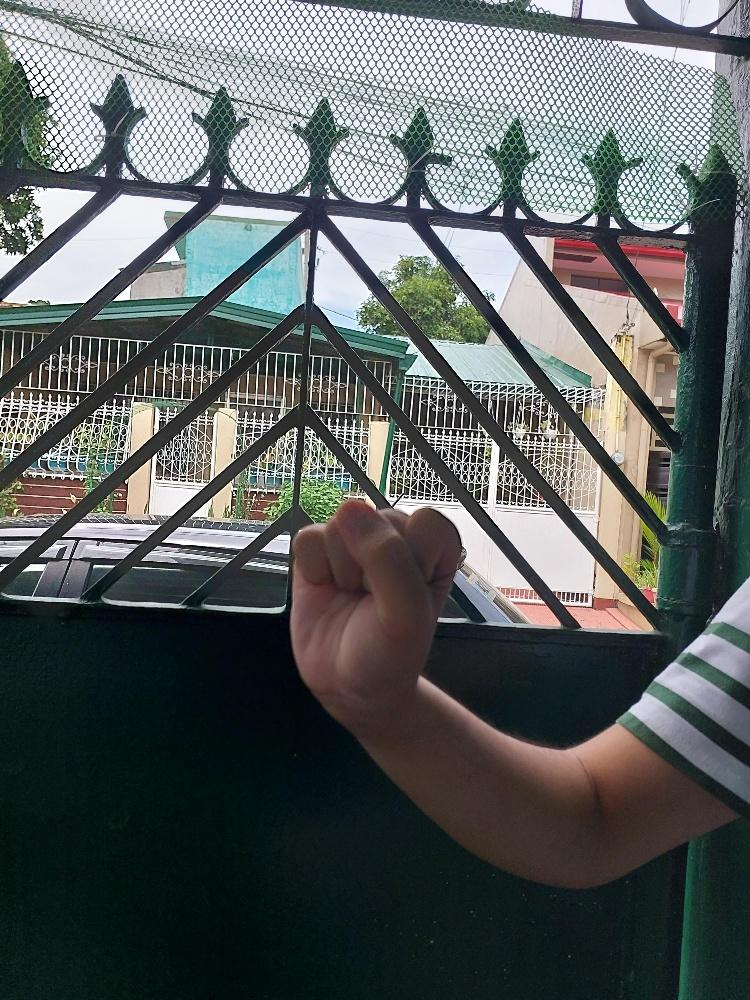s: (285, 493, 464, 716)
